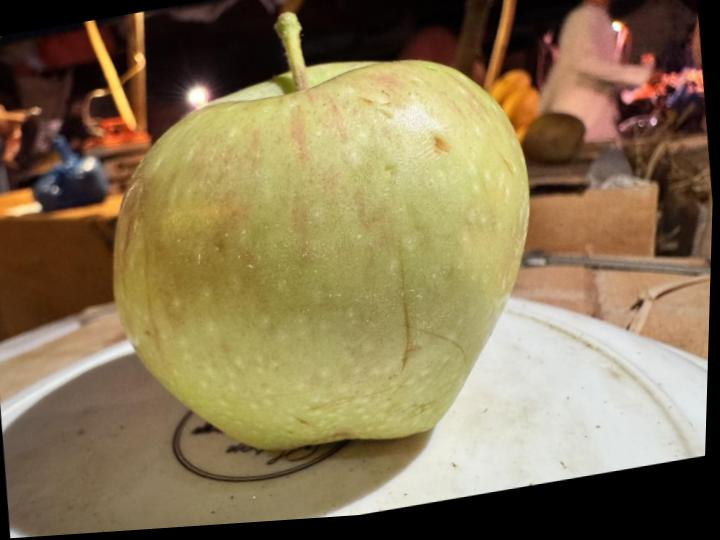apple: (114, 61, 529, 450)
surface_damage: (392, 247, 472, 379), (429, 132, 456, 158)
